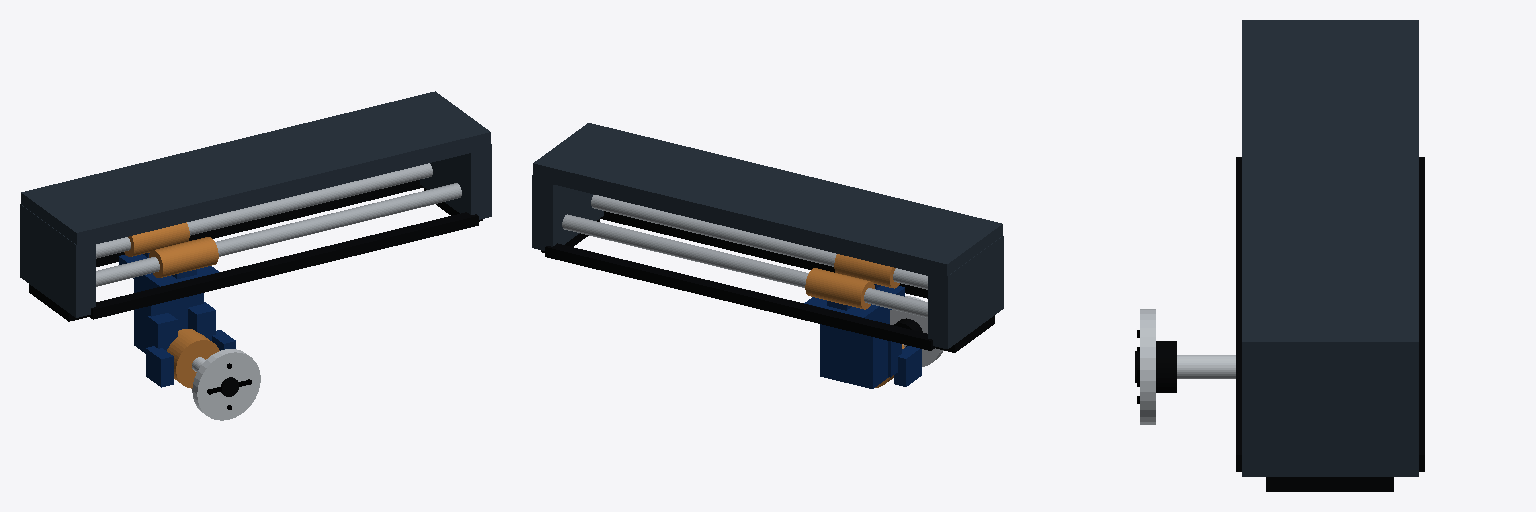
robot.urdf — under_slung_slide_rotary_module:
<robot name="under_slung_slide_rotary_module">
  <material name="painted_steel">
    <color rgba="0.18 0.22 0.26 1" />
    </material>
  <material name="dark_steel">
    <color rgba="0.05 0.055 0.06 1" />
    </material>
  <material name="ground_rail_steel">
    <color rgba="0.66 0.68 0.7 1" />
    </material>
  <material name="carriage_blue">
    <color rgba="0.08 0.2 0.38 1" />
    </material>
  <material name="bearing_bronze">
    <color rgba="0.72 0.48 0.24 1" />
    </material>
  <material name="spindle_metal">
    <color rgba="0.76 0.78 0.8 1" />
    </material>
  <material name="screw_black">
    <color rgba="0.01 0.012 0.014 1" />
    </material>
  <link name="top_support">
    <visual name="top_plate">
      <origin xyz="0 0 0.515" rpy="0 0 0" />
      <geometry>
        <box size="0.86 0.2 0.032" />
        </geometry>
      <material name="painted_steel">
        <color rgba="0.18 0.22 0.26 1" />
        </material>
      </visual>
    <visual name="end_plate_0">
      <origin xyz="-0.41 0 0.435" rpy="0 0 0" />
      <geometry>
        <box size="0.042 0.2 0.145" />
        </geometry>
      <material name="painted_steel">
        <color rgba="0.18 0.22 0.26 1" />
        </material>
      </visual>
    <visual name="end_plate_1">
      <origin xyz="0.41 0 0.435" rpy="0 0 0" />
      <geometry>
        <box size="0.042 0.2 0.145" />
        </geometry>
      <material name="painted_steel">
        <color rgba="0.18 0.22 0.26 1" />
        </material>
      </visual>
    <visual name="guide_rod_front">
      <origin xyz="0 -0.052 0.405" rpy="0 1.5708 0" />
      <geometry>
        <cylinder radius="0.014" length="0.82" />
        </geometry>
      <material name="ground_rail_steel">
        <color rgba="0.66 0.68 0.7 1" />
        </material>
      </visual>
    <visual name="guide_rod_rear">
      <origin xyz="0 0.052 0.405" rpy="0 1.5708 0" />
      <geometry>
        <cylinder radius="0.014" length="0.82" />
        </geometry>
      <material name="ground_rail_steel">
        <color rgba="0.66 0.68 0.7 1" />
        </material>
      </visual>
    <visual name="front_keeper_bar">
      <origin xyz="0 -0.095 0.365" rpy="0 0 0" />
      <geometry>
        <box size="0.8 0.024 0.02" />
        </geometry>
      <material name="dark_steel">
        <color rgba="0.05 0.055 0.06 1" />
        </material>
      </visual>
    <visual name="rear_keeper_bar">
      <origin xyz="0 0.095 0.365" rpy="0 0 0" />
      <geometry>
        <box size="0.8 0.024 0.02" />
        </geometry>
      <material name="dark_steel">
        <color rgba="0.05 0.055 0.06 1" />
        </material>
      </visual>
    <visual name="end_keeper_0">
      <origin xyz="-0.41 0 0.358" rpy="0 0 0" />
      <geometry>
        <box size="0.04 0.145 0.028" />
        </geometry>
      <material name="dark_steel">
        <color rgba="0.05 0.055 0.06 1" />
        </material>
      </visual>
    <visual name="end_keeper_1">
      <origin xyz="0.41 0 0.358" rpy="0 0 0" />
      <geometry>
        <box size="0.04 0.145 0.028" />
        </geometry>
      <material name="dark_steel">
        <color rgba="0.05 0.055 0.06 1" />
        </material>
      </visual>
    <collision name="top_plate">
      <origin xyz="0 0 0.515" rpy="0 0 0" />
      <geometry>
        <box size="0.86 0.2 0.032" />
        </geometry>
      </collision>
    <collision name="end_plate_0">
      <origin xyz="-0.41 0 0.435" rpy="0 0 0" />
      <geometry>
        <box size="0.042 0.2 0.145" />
        </geometry>
      </collision>
    <collision name="end_plate_1">
      <origin xyz="0.41 0 0.435" rpy="0 0 0" />
      <geometry>
        <box size="0.042 0.2 0.145" />
        </geometry>
      </collision>
    <collision name="guide_rod_front">
      <origin xyz="0 -0.052 0.405" rpy="0 1.5708 0" />
      <geometry>
        <cylinder radius="0.014" length="0.82" />
        </geometry>
      </collision>
    <collision name="guide_rod_rear">
      <origin xyz="0 0.052 0.405" rpy="0 1.5708 0" />
      <geometry>
        <cylinder radius="0.014" length="0.82" />
        </geometry>
      </collision>
    <collision name="front_keeper_bar">
      <origin xyz="0 -0.095 0.365" rpy="0 0 0" />
      <geometry>
        <box size="0.8 0.024 0.02" />
        </geometry>
      </collision>
    <collision name="rear_keeper_bar">
      <origin xyz="0 0.095 0.365" rpy="0 0 0" />
      <geometry>
        <box size="0.8 0.024 0.02" />
        </geometry>
      </collision>
    <collision name="end_keeper_0">
      <origin xyz="-0.41 0 0.358" rpy="0 0 0" />
      <geometry>
        <box size="0.04 0.145 0.028" />
        </geometry>
      </collision>
    <collision name="end_keeper_1">
      <origin xyz="0.41 0 0.358" rpy="0 0 0" />
      <geometry>
        <box size="0.04 0.145 0.028" />
        </geometry>
      </collision>
    </link>
  <link name="carriage">
    <visual name="linear_bearing_front">
      <origin xyz="0 -0.052 0" rpy="0 1.5708 0" />
      <geometry>
        <mesh filename="assets/meshes/linear_bearing_sleeve.obj" />
        </geometry>
      <material name="bearing_bronze">
        <color rgba="0.72 0.48 0.24 1" />
        </material>
      </visual>
    <visual name="linear_bearing_rear">
      <origin xyz="0 0.052 0" rpy="0 1.5708 0" />
      <geometry>
        <mesh filename="assets/meshes/linear_bearing_sleeve.obj" />
        </geometry>
      <material name="bearing_bronze">
        <color rgba="0.72 0.48 0.24 1" />
        </material>
      </visual>
    <visual name="bearing_bridge">
      <origin xyz="0 0 -0.046" rpy="0 0 0" />
      <geometry>
        <box size="0.124 0.15 0.024" />
        </geometry>
      <material name="carriage_blue">
        <color rgba="0.08 0.2 0.38 1" />
        </material>
      </visual>
    <visual name="front_hanger_tab">
      <origin xyz="0 -0.052 -0.031" rpy="0 0 0" />
      <geometry>
        <box size="0.04 0.024 0.026" />
        </geometry>
      <material name="carriage_blue">
        <color rgba="0.08 0.2 0.38 1" />
        </material>
      </visual>
    <visual name="rear_hanger_tab">
      <origin xyz="0 0.052 -0.031" rpy="0 0 0" />
      <geometry>
        <box size="0.04 0.024 0.026" />
        </geometry>
      <material name="carriage_blue">
        <color rgba="0.08 0.2 0.38 1" />
        </material>
      </visual>
    <visual name="drop_web">
      <origin xyz="0 0 -0.124" rpy="0 0 0" />
      <geometry>
        <box size="0.11 0.062 0.142" />
        </geometry>
      <material name="carriage_blue">
        <color rgba="0.08 0.2 0.38 1" />
        </material>
      </visual>
    <visual name="spindle_bearing">
      <origin xyz="0 -0.078 -0.19" rpy="1.5708 0 0" />
      <geometry>
        <mesh filename="assets/meshes/spindle_bearing_sleeve.obj" />
        </geometry>
      <material name="bearing_bronze">
        <color rgba="0.72 0.48 0.24 1" />
        </material>
      </visual>
    <visual name="bearing_clamp_0">
      <origin xyz="-0.065 -0.078 -0.19" rpy="0 0 0" />
      <geometry>
        <box size="0.026 0.056 0.056" />
        </geometry>
      <material name="carriage_blue">
        <color rgba="0.08 0.2 0.38 1" />
        </material>
      </visual>
    <visual name="bearing_clamp_1">
      <origin xyz="0.065 -0.078 -0.19" rpy="0 0 0" />
      <geometry>
        <box size="0.026 0.056 0.056" />
        </geometry>
      <material name="carriage_blue">
        <color rgba="0.08 0.2 0.38 1" />
        </material>
      </visual>
    <visual name="left_gusset">
      <origin xyz="-0.04 -0.045 -0.153" rpy="0 0 0" />
      <geometry>
        <box size="0.04 0.04 0.08" />
        </geometry>
      <material name="carriage_blue">
        <color rgba="0.08 0.2 0.38 1" />
        </material>
      </visual>
    <visual name="right_gusset">
      <origin xyz="0.04 -0.045 -0.153" rpy="0 0 0" />
      <geometry>
        <box size="0.04 0.04 0.08" />
        </geometry>
      <material name="carriage_blue">
        <color rgba="0.08 0.2 0.38 1" />
        </material>
      </visual>
    <collision name="linear_bearing_front">
      <origin xyz="0 -0.052 0" rpy="0 1.5708 0" />
      <geometry>
        <mesh filename="assets/meshes/linear_bearing_sleeve.obj" />
        </geometry>
      </collision>
    <collision name="linear_bearing_rear">
      <origin xyz="0 0.052 0" rpy="0 1.5708 0" />
      <geometry>
        <mesh filename="assets/meshes/linear_bearing_sleeve.obj" />
        </geometry>
      </collision>
    <collision name="bearing_bridge">
      <origin xyz="0 0 -0.046" rpy="0 0 0" />
      <geometry>
        <box size="0.124 0.15 0.024" />
        </geometry>
      </collision>
    <collision name="front_hanger_tab">
      <origin xyz="0 -0.052 -0.031" rpy="0 0 0" />
      <geometry>
        <box size="0.04 0.024 0.026" />
        </geometry>
      </collision>
    <collision name="rear_hanger_tab">
      <origin xyz="0 0.052 -0.031" rpy="0 0 0" />
      <geometry>
        <box size="0.04 0.024 0.026" />
        </geometry>
      </collision>
    <collision name="drop_web">
      <origin xyz="0 0 -0.124" rpy="0 0 0" />
      <geometry>
        <box size="0.11 0.062 0.142" />
        </geometry>
      </collision>
    <collision name="spindle_bearing">
      <origin xyz="0 -0.078 -0.19" rpy="1.5708 0 0" />
      <geometry>
        <mesh filename="assets/meshes/spindle_bearing_sleeve.obj" />
        </geometry>
      </collision>
    <collision name="bearing_clamp_0">
      <origin xyz="-0.065 -0.078 -0.19" rpy="0 0 0" />
      <geometry>
        <box size="0.026 0.056 0.056" />
        </geometry>
      </collision>
    <collision name="bearing_clamp_1">
      <origin xyz="0.065 -0.078 -0.19" rpy="0 0 0" />
      <geometry>
        <box size="0.026 0.056 0.056" />
        </geometry>
      </collision>
    <collision name="left_gusset">
      <origin xyz="-0.04 -0.045 -0.153" rpy="0 0 0" />
      <geometry>
        <box size="0.04 0.04 0.08" />
        </geometry>
      </collision>
    <collision name="right_gusset">
      <origin xyz="0.04 -0.045 -0.153" rpy="0 0 0" />
      <geometry>
        <box size="0.04 0.04 0.08" />
        </geometry>
      </collision>
    </link>
  <link name="spindle">
    <visual name="spindle_shaft">
      <origin xyz="0 -0.04 0" rpy="1.5708 0 0" />
      <geometry>
        <cylinder radius="0.014" length="0.16" />
        </geometry>
      <material name="spindle_metal">
        <color rgba="0.76 0.78 0.8 1" />
        </material>
      </visual>
    <visual name="faceplate_disk">
      <origin xyz="0 -0.128 0" rpy="1.5708 0 0" />
      <geometry>
        <cylinder radius="0.066" length="0.018" />
        </geometry>
      <material name="spindle_metal">
        <color rgba="0.76 0.78 0.8 1" />
        </material>
      </visual>
    <visual name="rear_hub">
      <origin xyz="0 -0.108 0" rpy="1.5708 0 0" />
      <geometry>
        <cylinder radius="0.03" length="0.025" />
        </geometry>
      <material name="dark_steel">
        <color rgba="0.05 0.055 0.06 1" />
        </material>
      </visual>
    <visual name="center_boss">
      <origin xyz="0 -0.139 0" rpy="1.5708 0 0" />
      <geometry>
        <cylinder radius="0.018" length="0.008" />
        </geometry>
      <material name="dark_steel">
        <color rgba="0.05 0.055 0.06 1" />
        </material>
      </visual>
    <visual name="face_slot">
      <origin xyz="0 -0.139 0" rpy="0 0 0" />
      <geometry>
        <box size="0.082 0.004 0.008" />
        </geometry>
      <material name="screw_black">
        <color rgba="0.01 0.012 0.014 1" />
        </material>
      </visual>
    <visual name="face_bolt_0">
      <origin xyz="0.041 -0.139 0" rpy="1.5708 0 0" />
      <geometry>
        <cylinder radius="0.0048" length="0.004" />
        </geometry>
      <material name="screw_black">
        <color rgba="0.01 0.012 0.014 1" />
        </material>
      </visual>
    <visual name="face_bolt_1">
      <origin xyz="2.51053e-18 -0.139 0.041" rpy="1.5708 0 0" />
      <geometry>
        <cylinder radius="0.0048" length="0.004" />
        </geometry>
      <material name="screw_black">
        <color rgba="0.01 0.012 0.014 1" />
        </material>
      </visual>
    <visual name="face_bolt_2">
      <origin xyz="-0.041 -0.139 5.02105e-18" rpy="1.5708 0 0" />
      <geometry>
        <cylinder radius="0.0048" length="0.004" />
        </geometry>
      <material name="screw_black">
        <color rgba="0.01 0.012 0.014 1" />
        </material>
      </visual>
    <visual name="face_bolt_3">
      <origin xyz="-7.53158e-18 -0.139 -0.041" rpy="1.5708 0 0" />
      <geometry>
        <cylinder radius="0.0048" length="0.004" />
        </geometry>
      <material name="screw_black">
        <color rgba="0.01 0.012 0.014 1" />
        </material>
      </visual>
    <collision name="spindle_shaft">
      <origin xyz="0 -0.04 0" rpy="1.5708 0 0" />
      <geometry>
        <cylinder radius="0.014" length="0.16" />
        </geometry>
      </collision>
    <collision name="faceplate_disk">
      <origin xyz="0 -0.128 0" rpy="1.5708 0 0" />
      <geometry>
        <cylinder radius="0.066" length="0.018" />
        </geometry>
      </collision>
    <collision name="rear_hub">
      <origin xyz="0 -0.108 0" rpy="1.5708 0 0" />
      <geometry>
        <cylinder radius="0.03" length="0.025" />
        </geometry>
      </collision>
    <collision name="center_boss">
      <origin xyz="0 -0.139 0" rpy="1.5708 0 0" />
      <geometry>
        <cylinder radius="0.018" length="0.008" />
        </geometry>
      </collision>
    <collision name="face_slot">
      <origin xyz="0 -0.139 0" rpy="0 0 0" />
      <geometry>
        <box size="0.082 0.004 0.008" />
        </geometry>
      </collision>
    <collision name="face_bolt_0">
      <origin xyz="0.041 -0.139 0" rpy="1.5708 0 0" />
      <geometry>
        <cylinder radius="0.0048" length="0.004" />
        </geometry>
      </collision>
    <collision name="face_bolt_1">
      <origin xyz="2.51053e-18 -0.139 0.041" rpy="1.5708 0 0" />
      <geometry>
        <cylinder radius="0.0048" length="0.004" />
        </geometry>
      </collision>
    <collision name="face_bolt_2">
      <origin xyz="-0.041 -0.139 5.02105e-18" rpy="1.5708 0 0" />
      <geometry>
        <cylinder radius="0.0048" length="0.004" />
        </geometry>
      </collision>
    <collision name="face_bolt_3">
      <origin xyz="-7.53158e-18 -0.139 -0.041" rpy="1.5708 0 0" />
      <geometry>
        <cylinder radius="0.0048" length="0.004" />
        </geometry>
      </collision>
    </link>
  <joint name="support_to_carriage" type="prismatic">
    <origin xyz="-0.18 0 0.405" rpy="0 0 0" />
    <parent link="top_support" />
    <child link="carriage" />
    <axis xyz="1 0 0" />
    <limit effort="220" velocity="0.45" lower="0" upper="0.36" />
    </joint>
  <joint name="carriage_to_spindle" type="continuous">
    <origin xyz="0 -0.078 -0.19" rpy="0 0 0" />
    <parent link="carriage" />
    <child link="spindle" />
    <axis xyz="0 1 0" />
    <limit effort="12" velocity="8" />
    </joint>
  </robot>

--- What the picture shows (computed from the rendered views, not written in the file) ---
The picture shows the robot from 3 angles, left to right: view 1: azimuth 30°, elevation 25°; view 2: azimuth 150°, elevation 25°; view 3: azimuth 270°, elevation 25°; orthographic projection.
Robot: under_slung_slide_rotary_module — 3 links, 2 joints (1 continuous, 1 prismatic); root link top_support; default pose: all joints at 0.
Links seen in each view (by area): view 1: top_support, carriage, spindle; view 2: top_support, carriage, spindle; view 3: top_support, spindle.
Link boxes in pixels (x1,y1,x2,y2): top_support: [20, 91, 491, 321]; carriage: [119, 222, 235, 388]; spindle: [192, 349, 260, 420]; top_support: [532, 123, 1003, 352]; carriage: [804, 254, 921, 388]; spindle: [890, 296, 943, 366]; top_support: [1236, 20, 1424, 491]; spindle: [1135, 309, 1235, 424].
Size in the robot's own frame: 0.862 by 0.328 by 0.382 metres.
3 mesh visuals loaded from 2 distinct referenced files (2 OBJ).
